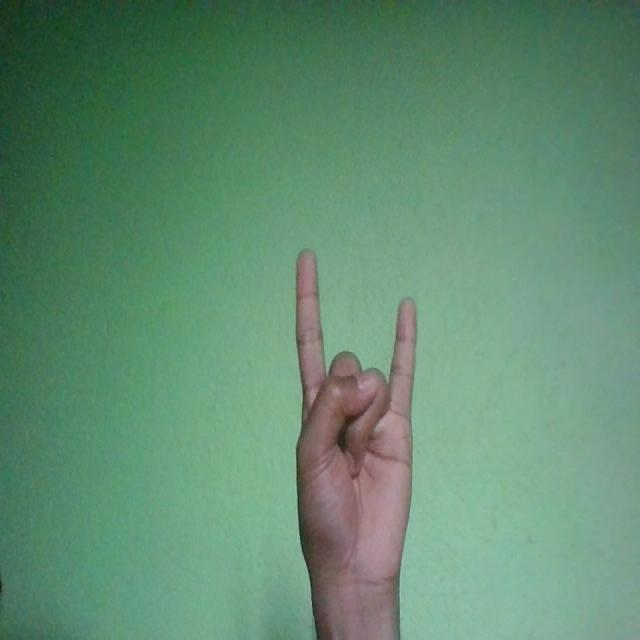open Plam: (294, 248, 418, 603)
